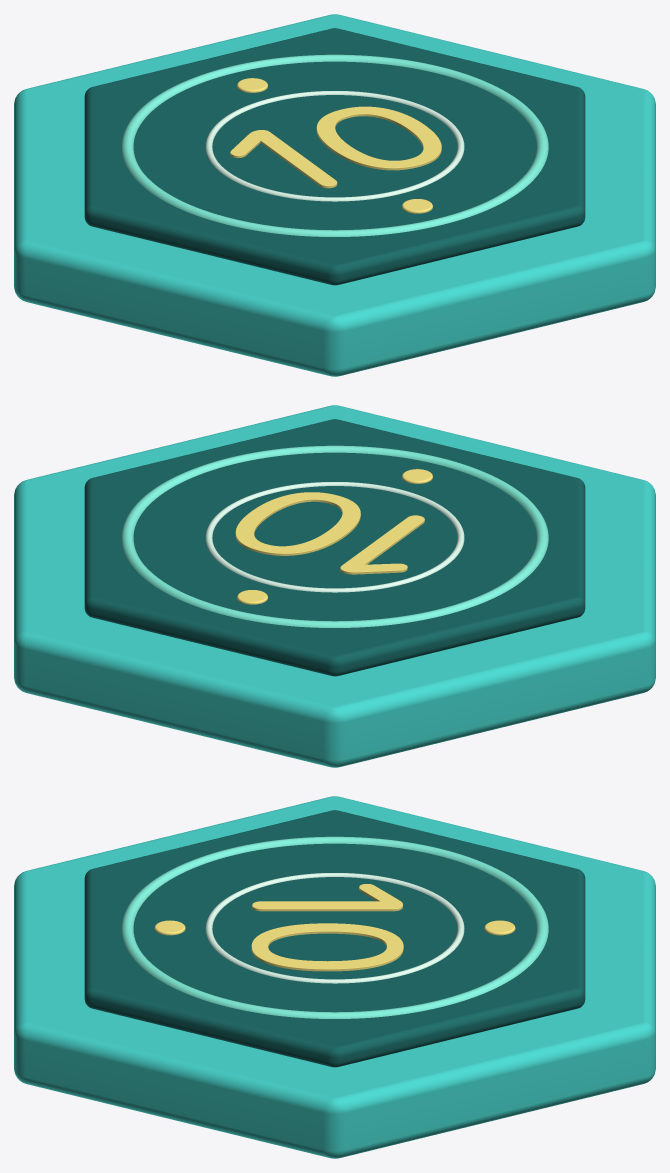
The model's file is achievement_workout_10.glb.
3 views of the same model, one above another, from view 1: azimuth 30°, elevation 25°; view 2: azimuth 150°, elevation 25°; view 3: azimuth 270°, elevation 25° (orthographic).
Visible parts, largest first — view 1: colored hex milestone border, inset enamel hex face, inner milestone ring, imprinted 10 workout count, milestone highlight ring; view 2: colored hex milestone border, inset enamel hex face, inner milestone ring, imprinted 10 workout count, milestone highlight ring; view 3: colored hex milestone border, inset enamel hex face, inner milestone ring, imprinted 10 workout count, milestone highlight ring.
Boxes of the visible parts, x1,y1,x2,y2 form: colored hex milestone border: [14, 14, 655, 376]; inset enamel hex face: [84, 28, 585, 285]; inner milestone ring: [121, 54, 548, 236]; imprinted 10 workout count: [230, 106, 441, 188]; milestone highlight ring: [205, 91, 464, 201]; colored hex milestone border: [14, 405, 655, 767]; inset enamel hex face: [84, 419, 585, 676]; inner milestone ring: [121, 445, 548, 627]; imprinted 10 workout count: [235, 492, 424, 574]; milestone highlight ring: [205, 482, 464, 592]; colored hex milestone border: [14, 796, 655, 1158]; inset enamel hex face: [84, 810, 585, 1067]; inner milestone ring: [121, 836, 548, 1018]; imprinted 10 workout count: [251, 884, 403, 971]; milestone highlight ring: [205, 873, 464, 983].
Bounding box in the file's own units: 1.98 × 0.246 × 1.73.
